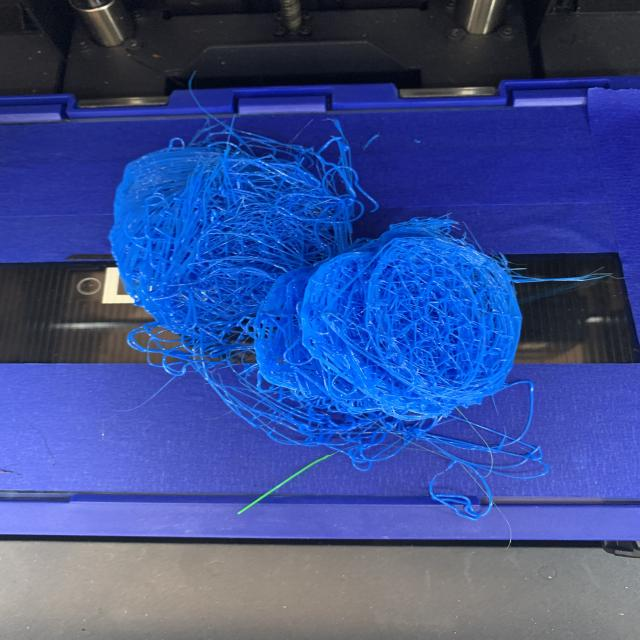spaghetti: (107, 76, 614, 541)
